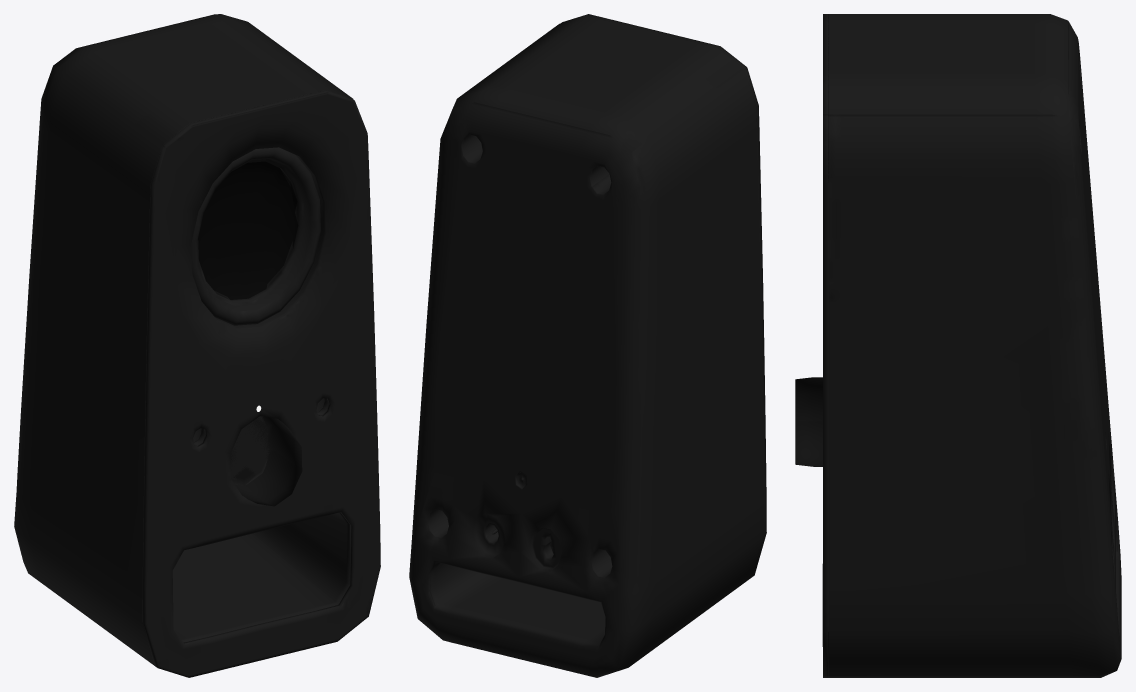
The model's file is spk-logitech-z407.glb.
The picture shows the model from 3 angles, left to right: view 1: azimuth 30°, elevation 25°; view 2: azimuth 150°, elevation 25°; view 3: azimuth 270°, elevation 25°; orthographic projection. The views are drawn at different scales.
Parts seen in each view (by area): view 1: body; view 2: body; view 3: body.
Part boxes in pixels (<box>): body: <box>14,14,380,677</box>; body: <box>409,14,766,677</box>; body: <box>795,14,1121,677</box>.
Size of the model in its own units: 0.08 by 0.179 by 0.09.
5 materials, 4 textured.
